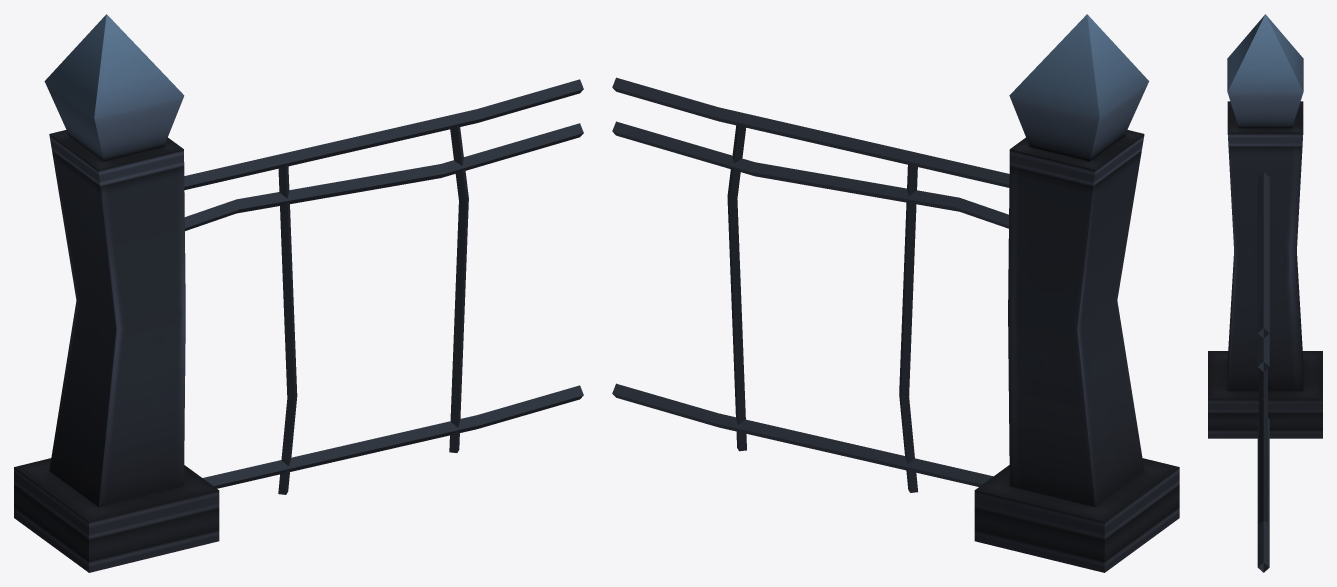
File: GraveYard_Fence_00.FBX
3 views of the same model, side by side, from view 1: azimuth 30°, elevation 25°; view 2: azimuth 150°, elevation 25°; view 3: azimuth 270°, elevation 25° (orthographic). The views are drawn at different scales.
Parts seen in each view (by area): view 1: GraveYard_Fence_00; view 2: GraveYard_Fence_00; view 3: GraveYard_Fence_00.
Boxes of the visible parts, <box> form: GraveYard_Fence_00: <box>14,14,583,572</box>; GraveYard_Fence_00: <box>612,14,1179,572</box>; GraveYard_Fence_00: <box>1208,14,1322,572</box>.
Bounding box in the file's own units: 78.12 × 73.72 × 19.27.
